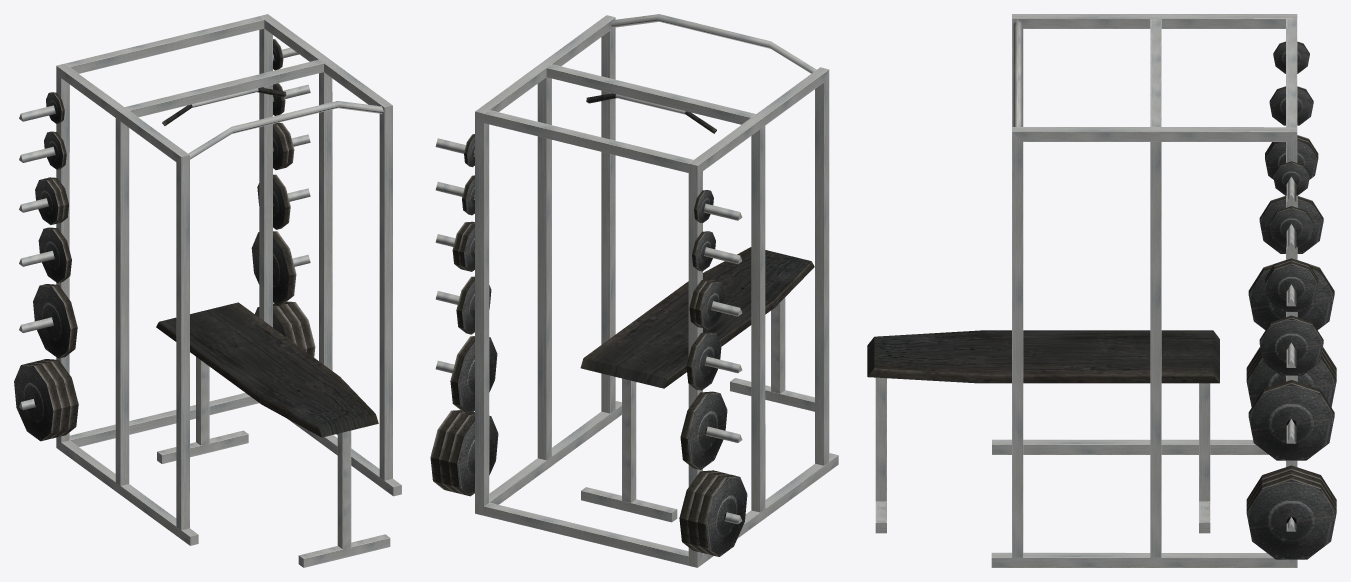
File: M_Home_Garden_Machine.fbx
3 views of the same model, side by side, from view 1: azimuth 30°, elevation 25°; view 2: azimuth 150°, elevation 25°; view 3: azimuth 270°, elevation 25° (orthographic). The views are drawn at different scales.
Visible parts, largest first — view 1: M_Home_Garden_Machine; view 2: M_Home_Garden_Machine; view 3: M_Home_Garden_Machine.
Boxes of the visible parts, x1,y1,x2,y2 form: M_Home_Garden_Machine: (14, 14, 401, 567); M_Home_Garden_Machine: (430, 14, 838, 567); M_Home_Garden_Machine: (867, 14, 1336, 567).
Size of the model in its own units: 121 by 160 by 150.
